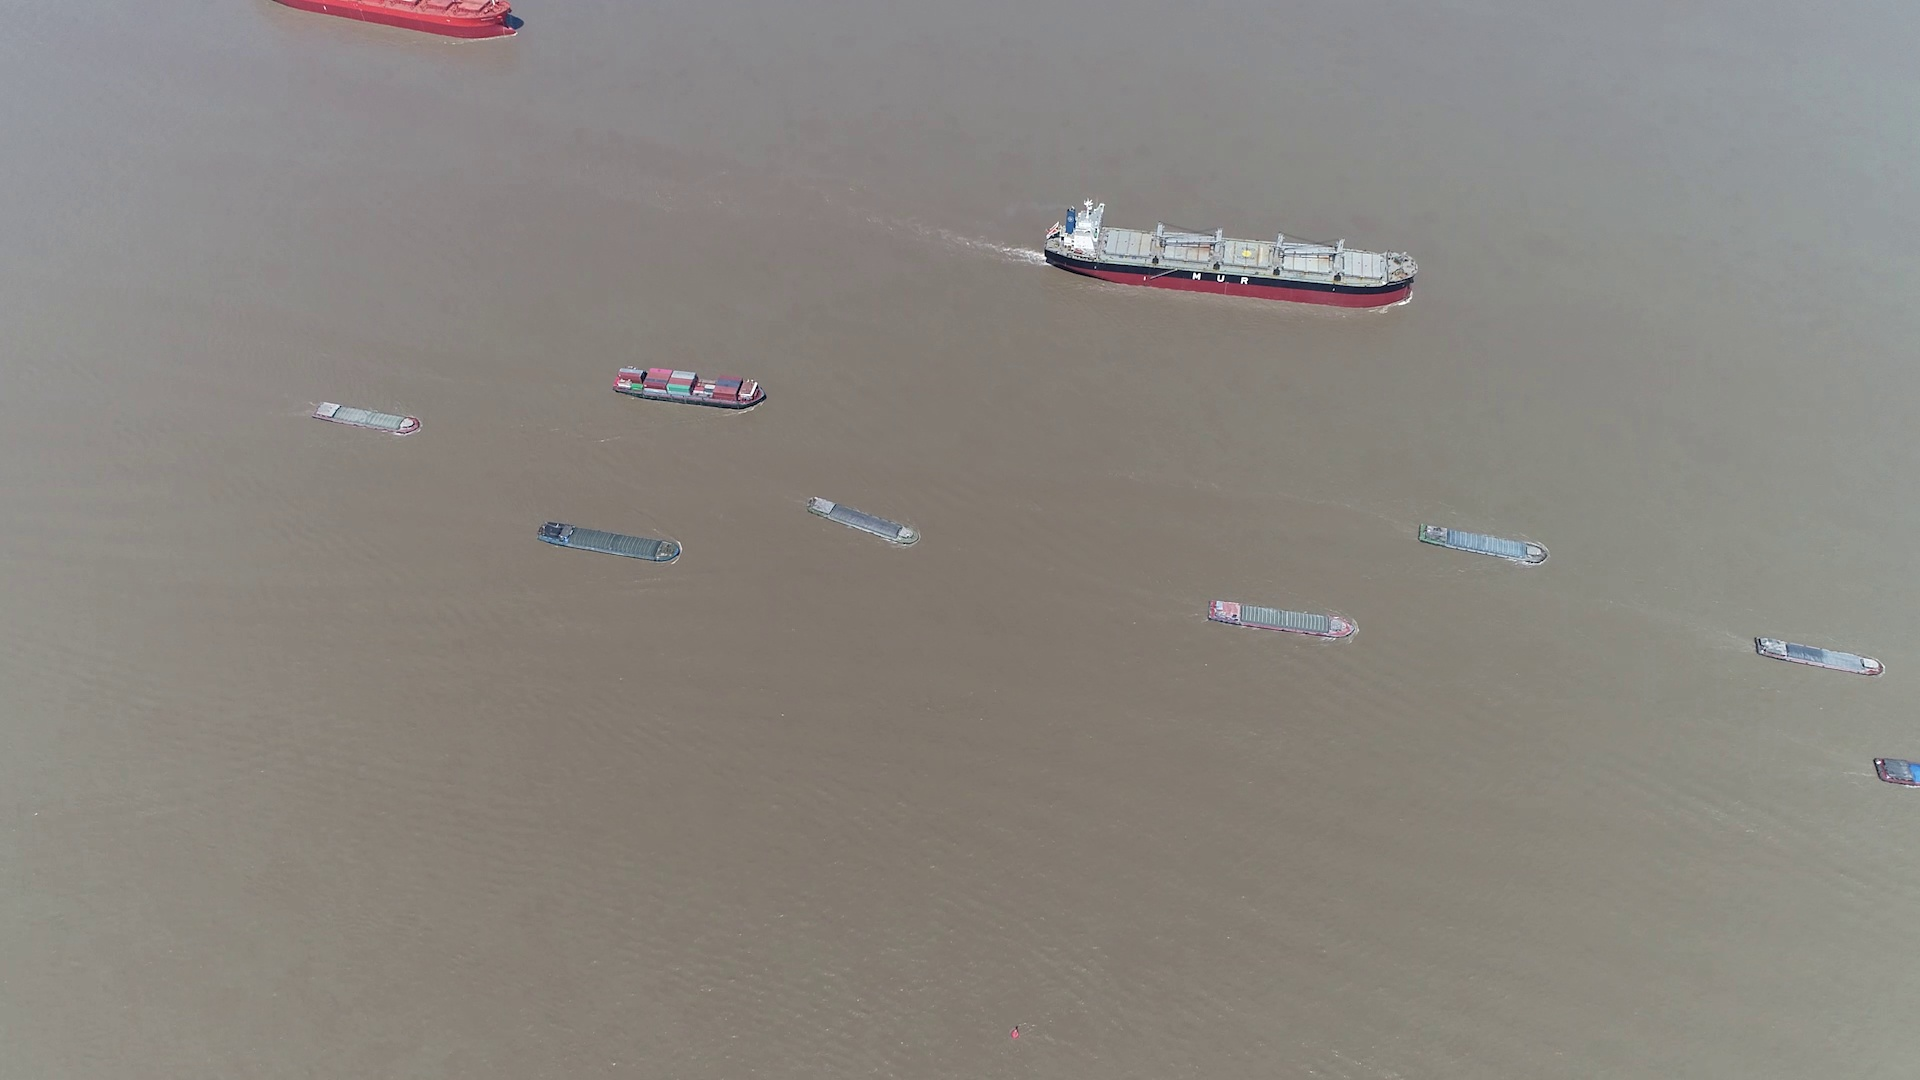ship: (1043, 200, 1419, 305), (273, 0, 524, 42), (611, 364, 767, 410), (535, 520, 683, 564), (1207, 597, 1358, 640), (1419, 522, 1547, 567), (808, 496, 920, 546), (1753, 636, 1884, 676), (311, 400, 419, 435), (1874, 760, 1920, 789)
